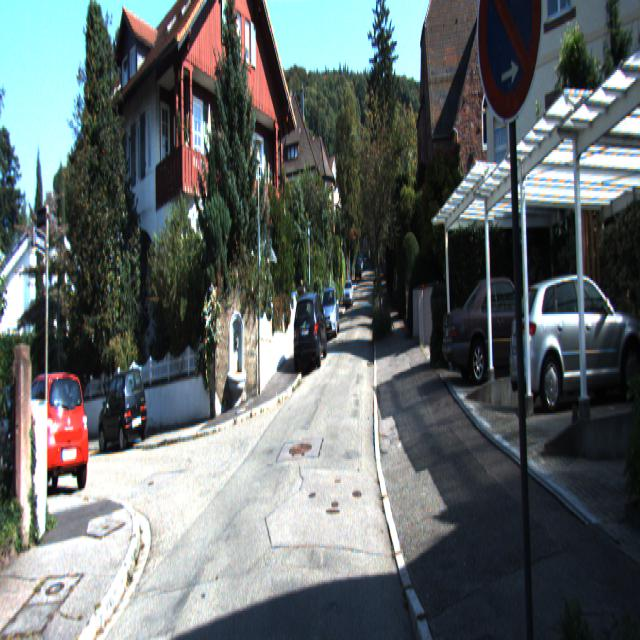Car: (506, 262, 640, 412), (442, 271, 562, 388), (20, 367, 91, 503), (98, 362, 147, 466), (293, 287, 328, 373), (320, 274, 340, 328), (344, 279, 354, 306)
